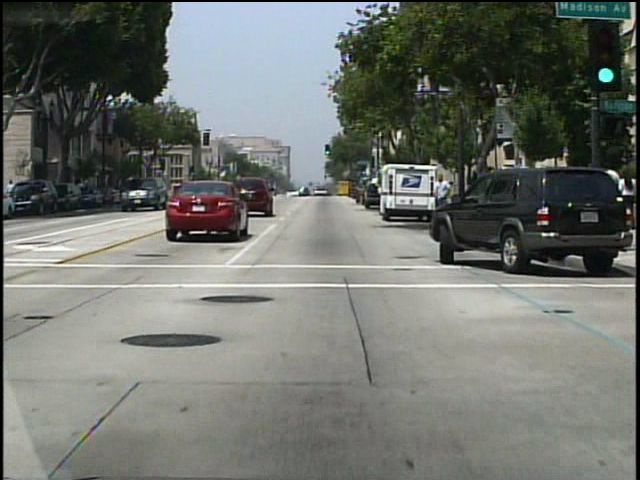person: (429, 171, 453, 225), (352, 178, 368, 209), (8, 179, 19, 207)
